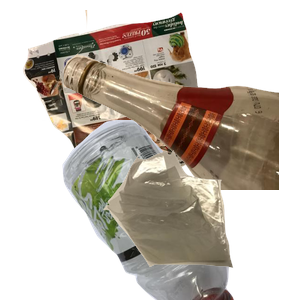glass: (60, 10, 300, 190)
paper: (20, 10, 231, 190)
plastic: (25, 120, 252, 300)
trash: (101, 148, 300, 300)
